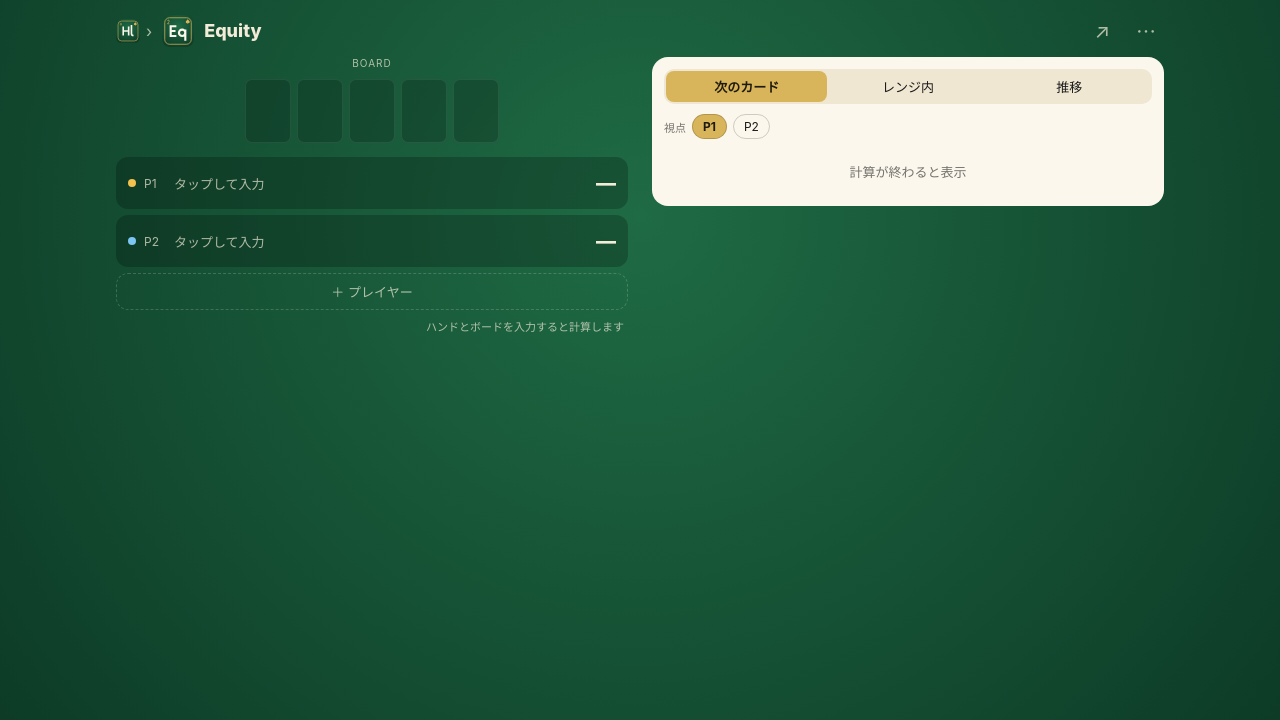
Test: App › adds and removes players
The width and height of the screenshot is (1280, 720).
What coordinates should you click on to do the following:
click the button "＋ プレイヤー"
I would click on:
 (372, 292)
Its box is [116,273,628,310].
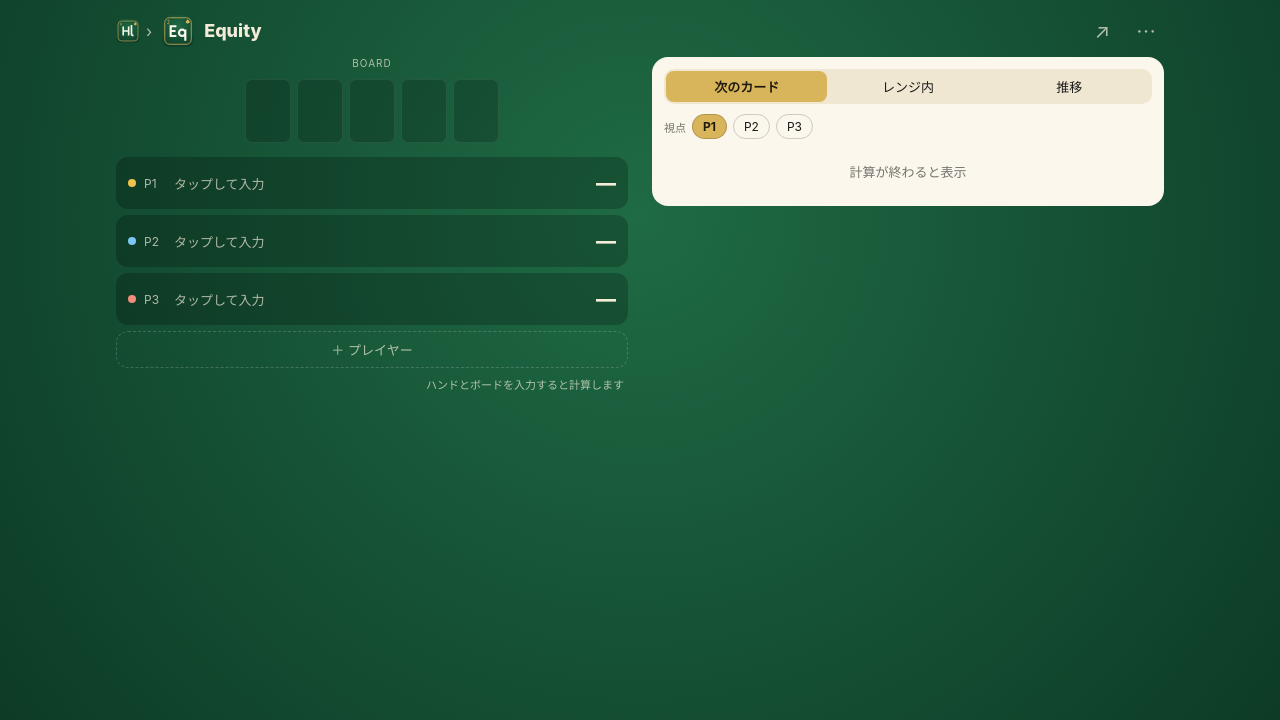
Result: the button with aria-label "P3 を編集" is shown
What coordinates should you click on to do the following:
click the button with aria-label "P3 を編集"
I would click on:
 (219, 300)
Its box is [116,273,628,325].
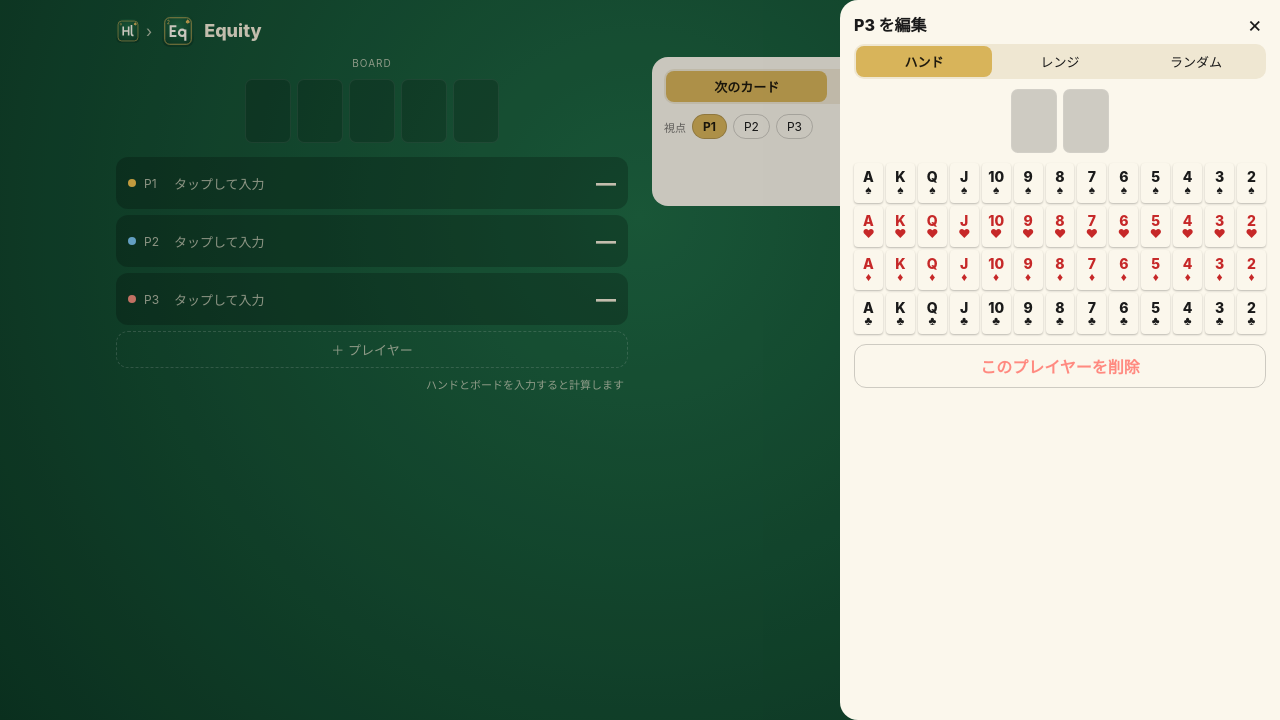
What coordinates should you click on to do the following:
click the button "このプレイヤーを削除"
I would click on:
 (1060, 366)
Its box is [854,344,1266,388].
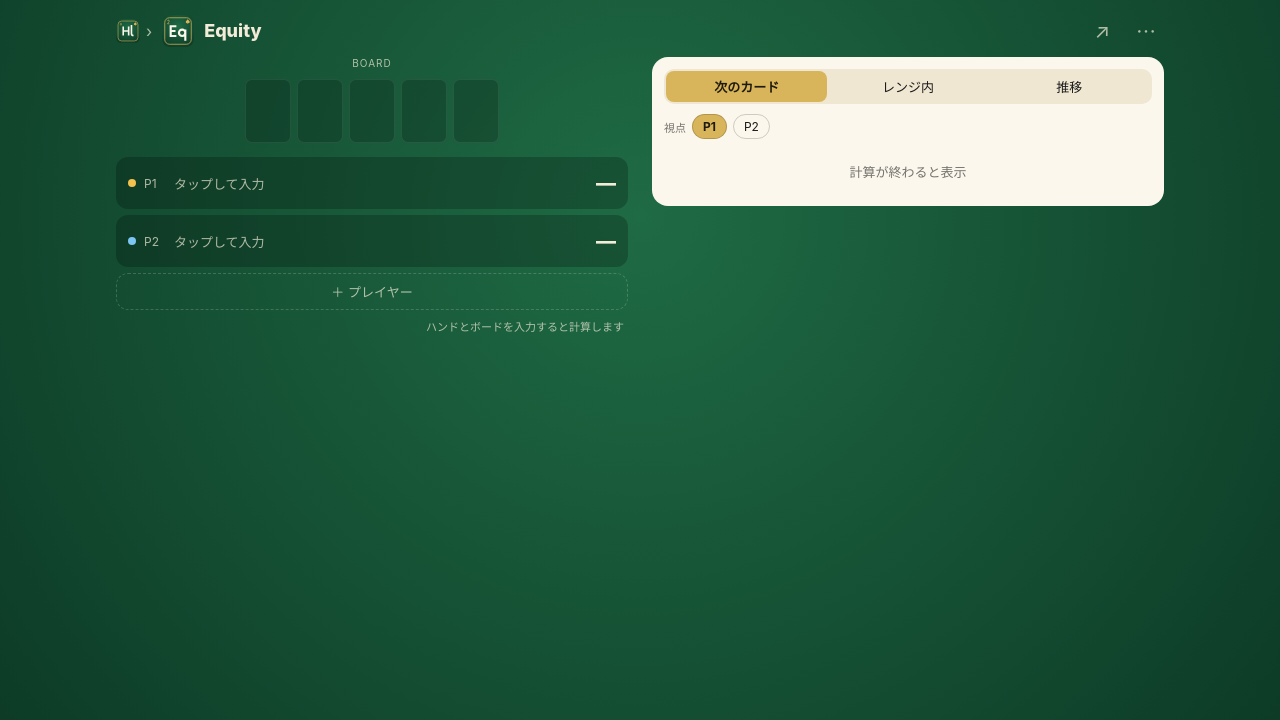
Result: the text "P3 を編集" is gone
